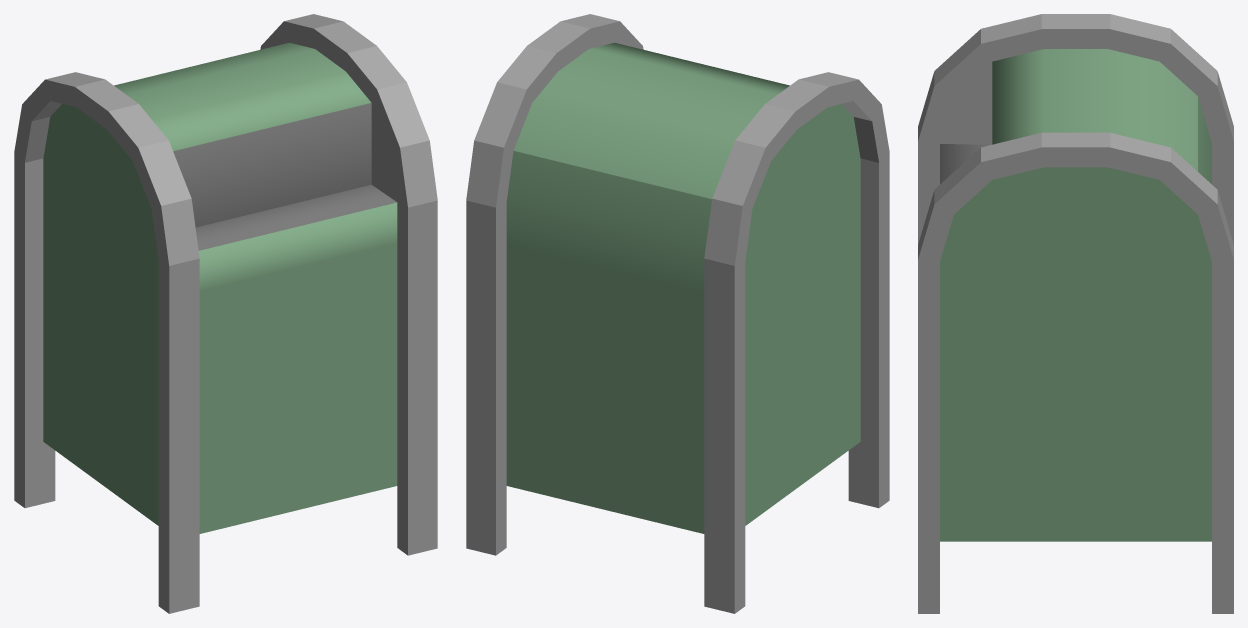
File: Poctovia_Bak.fbx
3 renders of one model, left to right at view 1: azimuth 30°, elevation 25°; view 2: azimuth 150°, elevation 25°; view 3: azimuth 270°, elevation 25°, orthographic.
Visible parts, largest first — view 1: Poctovia_buk; view 2: Poctovia_buk; view 3: Poctovia_buk.
Boxes of the visible parts, box(x1,y1,x2,y2) form: Poctovia_buk: box(14, 14, 437, 613); Poctovia_buk: box(466, 14, 889, 613); Poctovia_buk: box(918, 14, 1233, 613).
Bounding box in the file's own units: 1.16 × 1.89 × 1.16.
